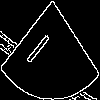I: (25, 25, 56, 66)
